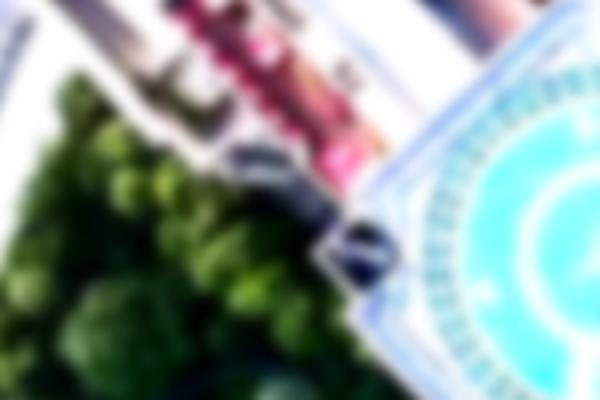Apron: (514, 146, 600, 360)
